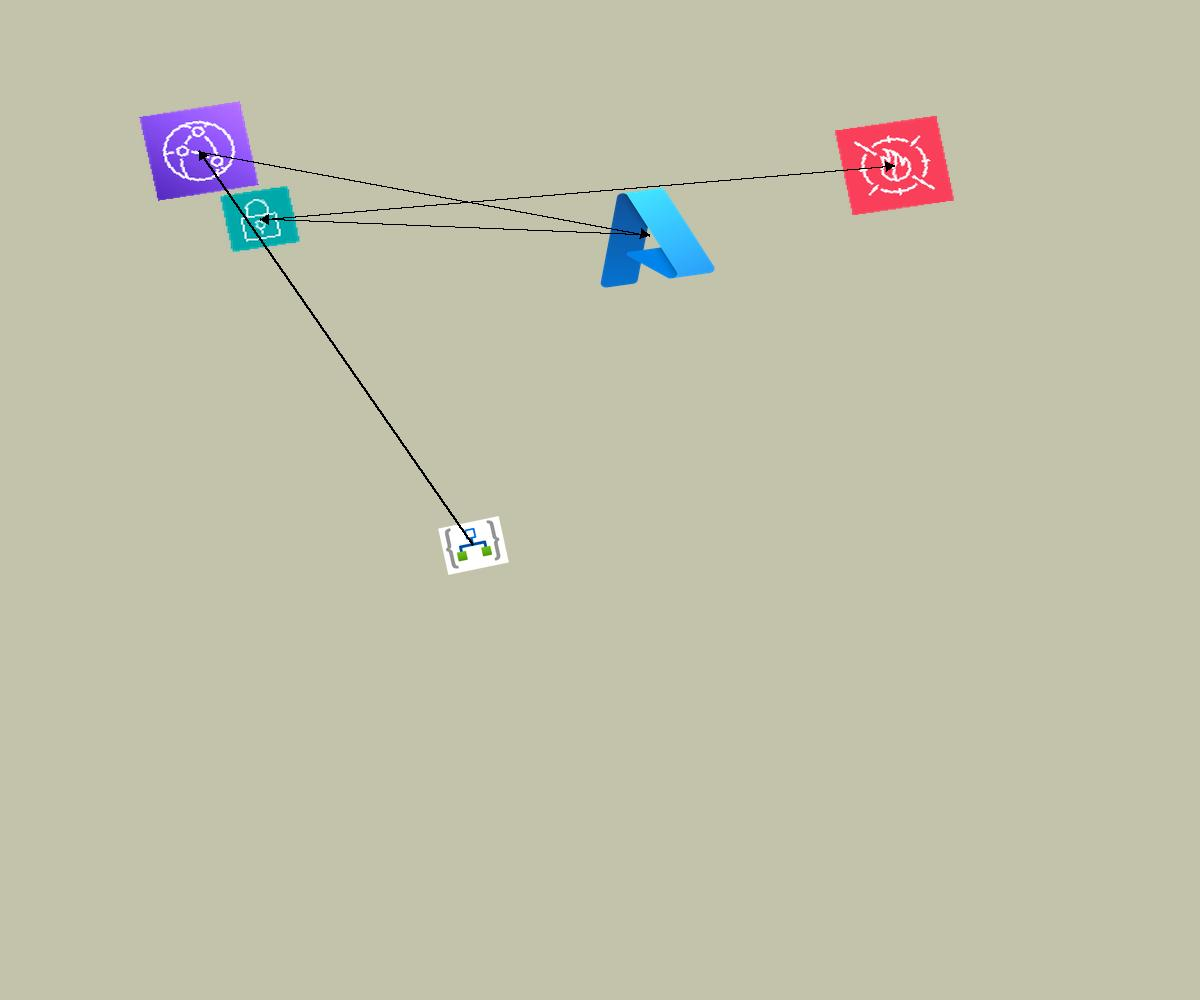AWS-CloudFront: (139, 101, 259, 201)
AWS-Private-subnet: (219, 185, 301, 253)
AWS-WAF: (834, 115, 955, 216)
Azure_integration-204-Logic-Apps: (438, 516, 509, 575)
Azure_services: (577, 175, 722, 296)
